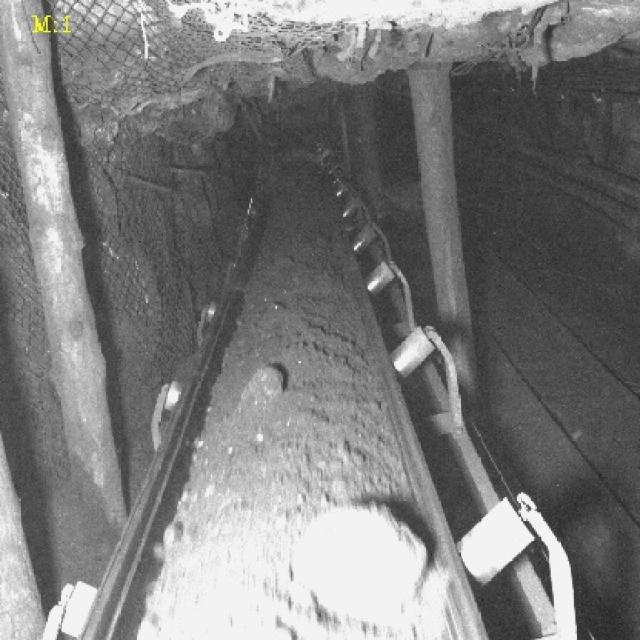large_sized_coal: (300, 504, 428, 610), (240, 363, 288, 420)
